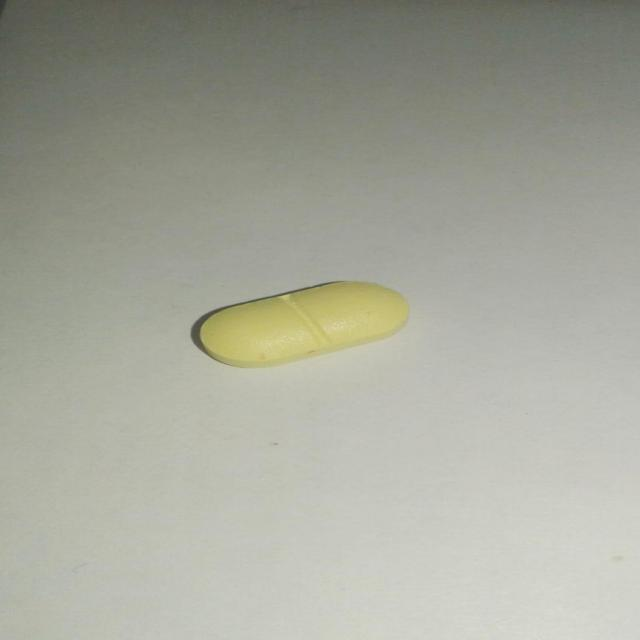pill: (185, 280, 418, 368)
